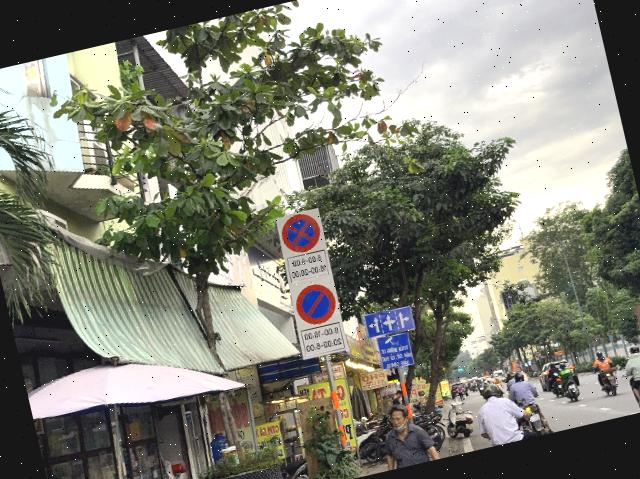cam-do-xe: (292, 280, 340, 328)
cam-dung-va-do-xe: (278, 209, 324, 255)
